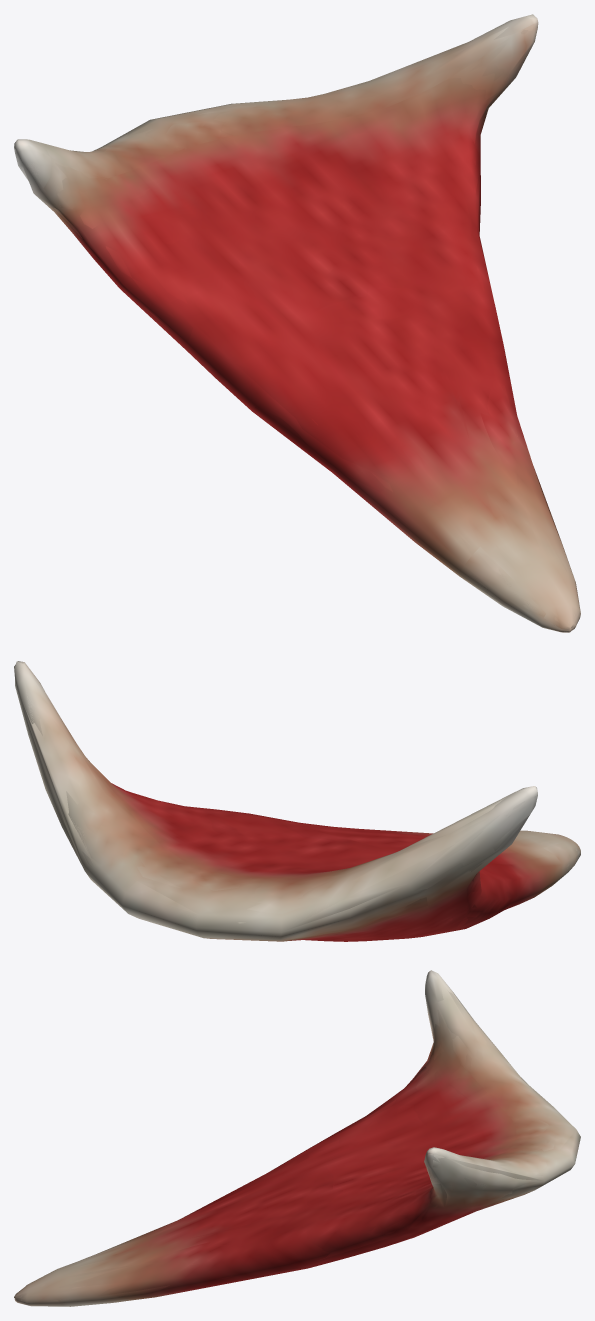
File: Mylohyoideus.fbx
3 views of the same model, one above another, from view 1: azimuth 30°, elevation 25°; view 2: azimuth 150°, elevation 25°; view 3: azimuth 270°, elevation 25° (orthographic). The views are drawn at different scales.
Visible parts, largest first — view 1: Mylohyoideus, Mylohyoideus high, Mylohyoideus low; view 2: Mylohyoideus, Mylohyoideus high, Mylohyoideus low; view 3: Mylohyoideus, Mylohyoideus low, Mylohyoideus high.
Part boxes in pixels (x1,y1,x2,y2): Mylohyoideus: (14,14,580,632); Mylohyoideus high: (15,17,577,632); Mylohyoideus low: (17,16,578,632); Mylohyoideus: (14,661,580,941); Mylohyoideus high: (20,662,577,939); Mylohyoideus low: (14,662,577,940); Mylohyoideus: (14,970,580,1306); Mylohyoideus low: (14,975,579,1304); Mylohyoideus high: (15,975,557,1300).
Bounding box in the file's own units: 3.38 × 2.13 × 4.48.
Materials: 1 (1 with a texture image).
